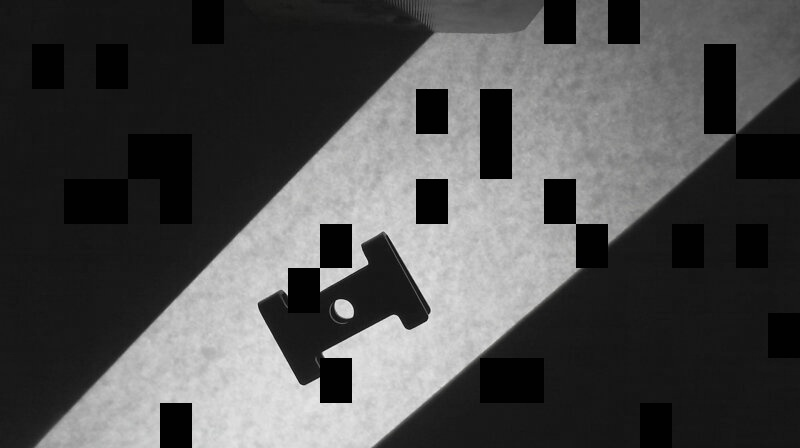O002: (253, 228, 434, 387)
